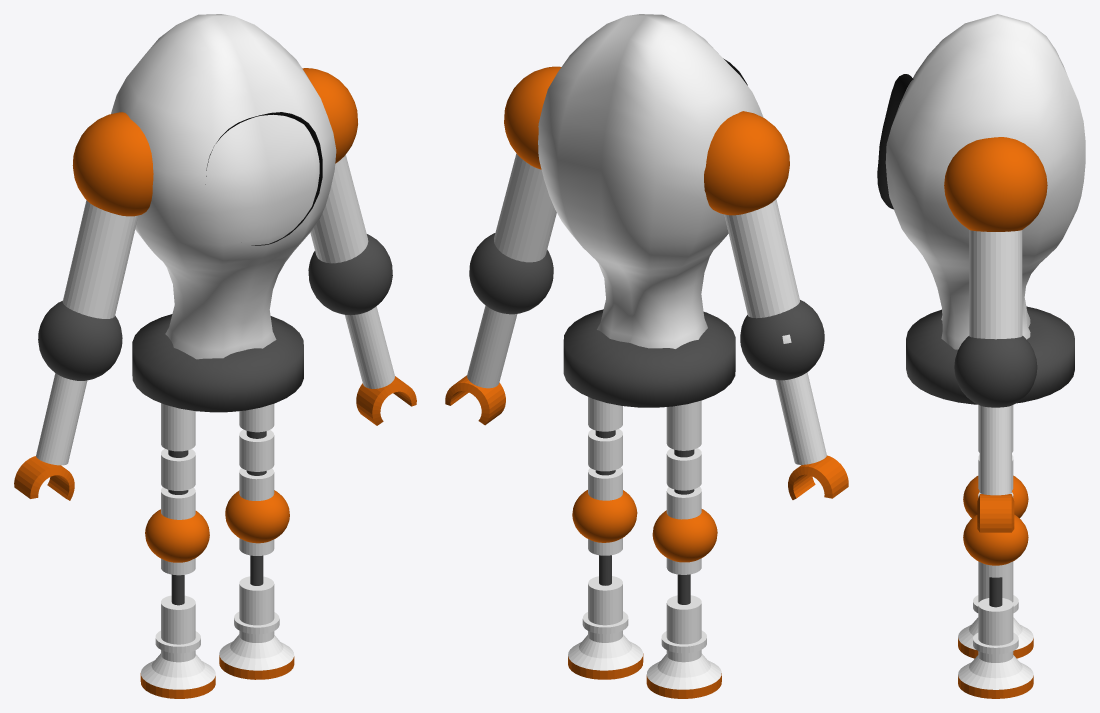
File: RobotMesh.fbx
3 renders of one model, left to right at view 1: azimuth 30°, elevation 25°; view 2: azimuth 150°, elevation 25°; view 3: azimuth 270°, elevation 25°, orthographic. The views are drawn at different scales.
Visible parts, largest first — view 1: Robot; view 2: Robot; view 3: Robot.
Part boxes in pixels (x1,y1,x2,y2): Robot: (14,14,416,698); Robot: (445,14,848,698); Robot: (877,14,1085,698).
Size of the model in its own units: 87.97 by 143 by 41.85.
